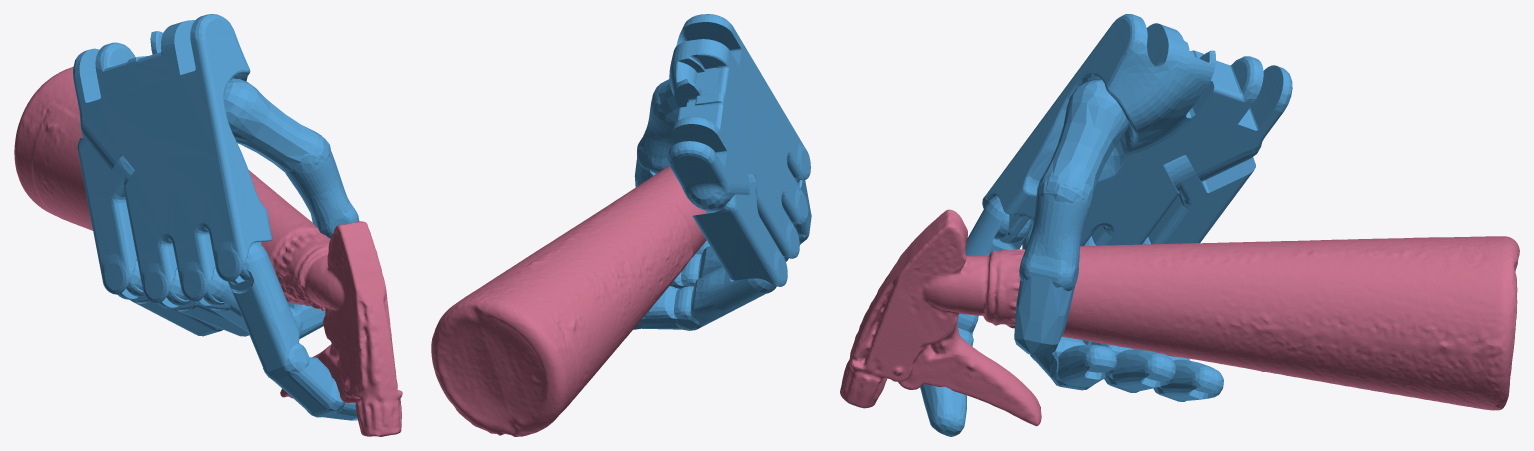
3 views of the same model, side by side, from view 1: azimuth 30°, elevation 25°; view 2: azimuth 150°, elevation 25°; view 3: azimuth 270°, elevation 25° (orthographic). The views are drawn at different scales.
Visible parts, largest first — view 1: 22; view 2: 22; view 3: 22.
Part boxes in pixels (x1,y1,x2,y2): 22: (14,14,402,436); 22: (431,14,811,436); 22: (840,14,1519,436).
Size of the model in its own units: 0.1082 by 0.1668 by 0.2685.
